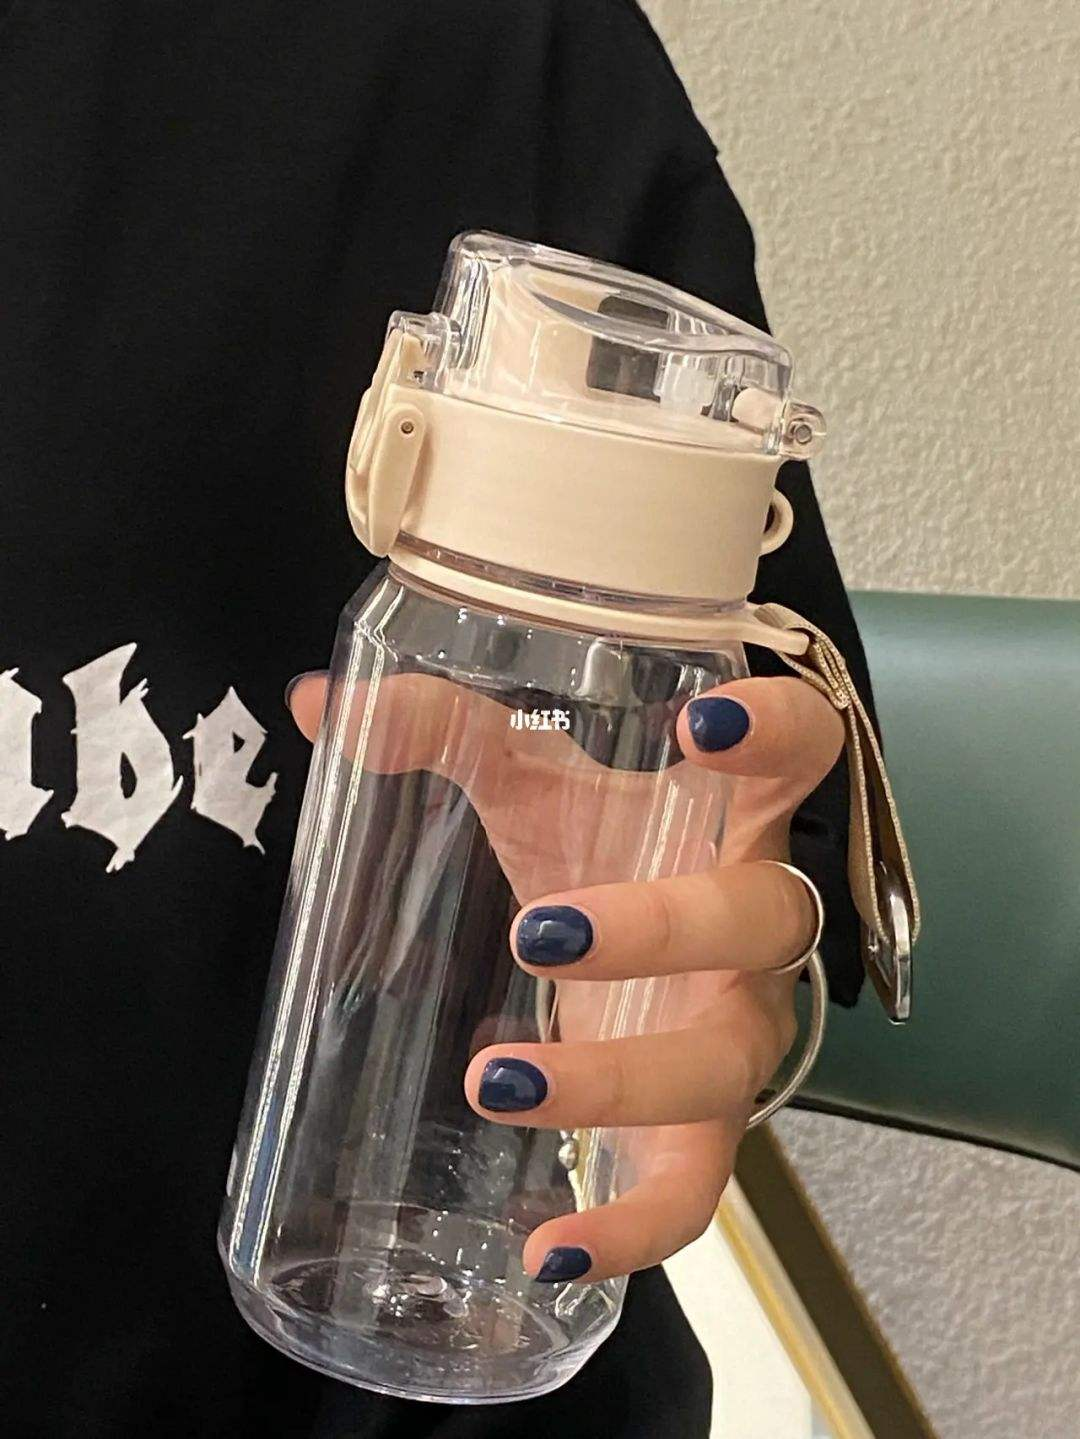no-phone: (261, 217, 861, 1405)
